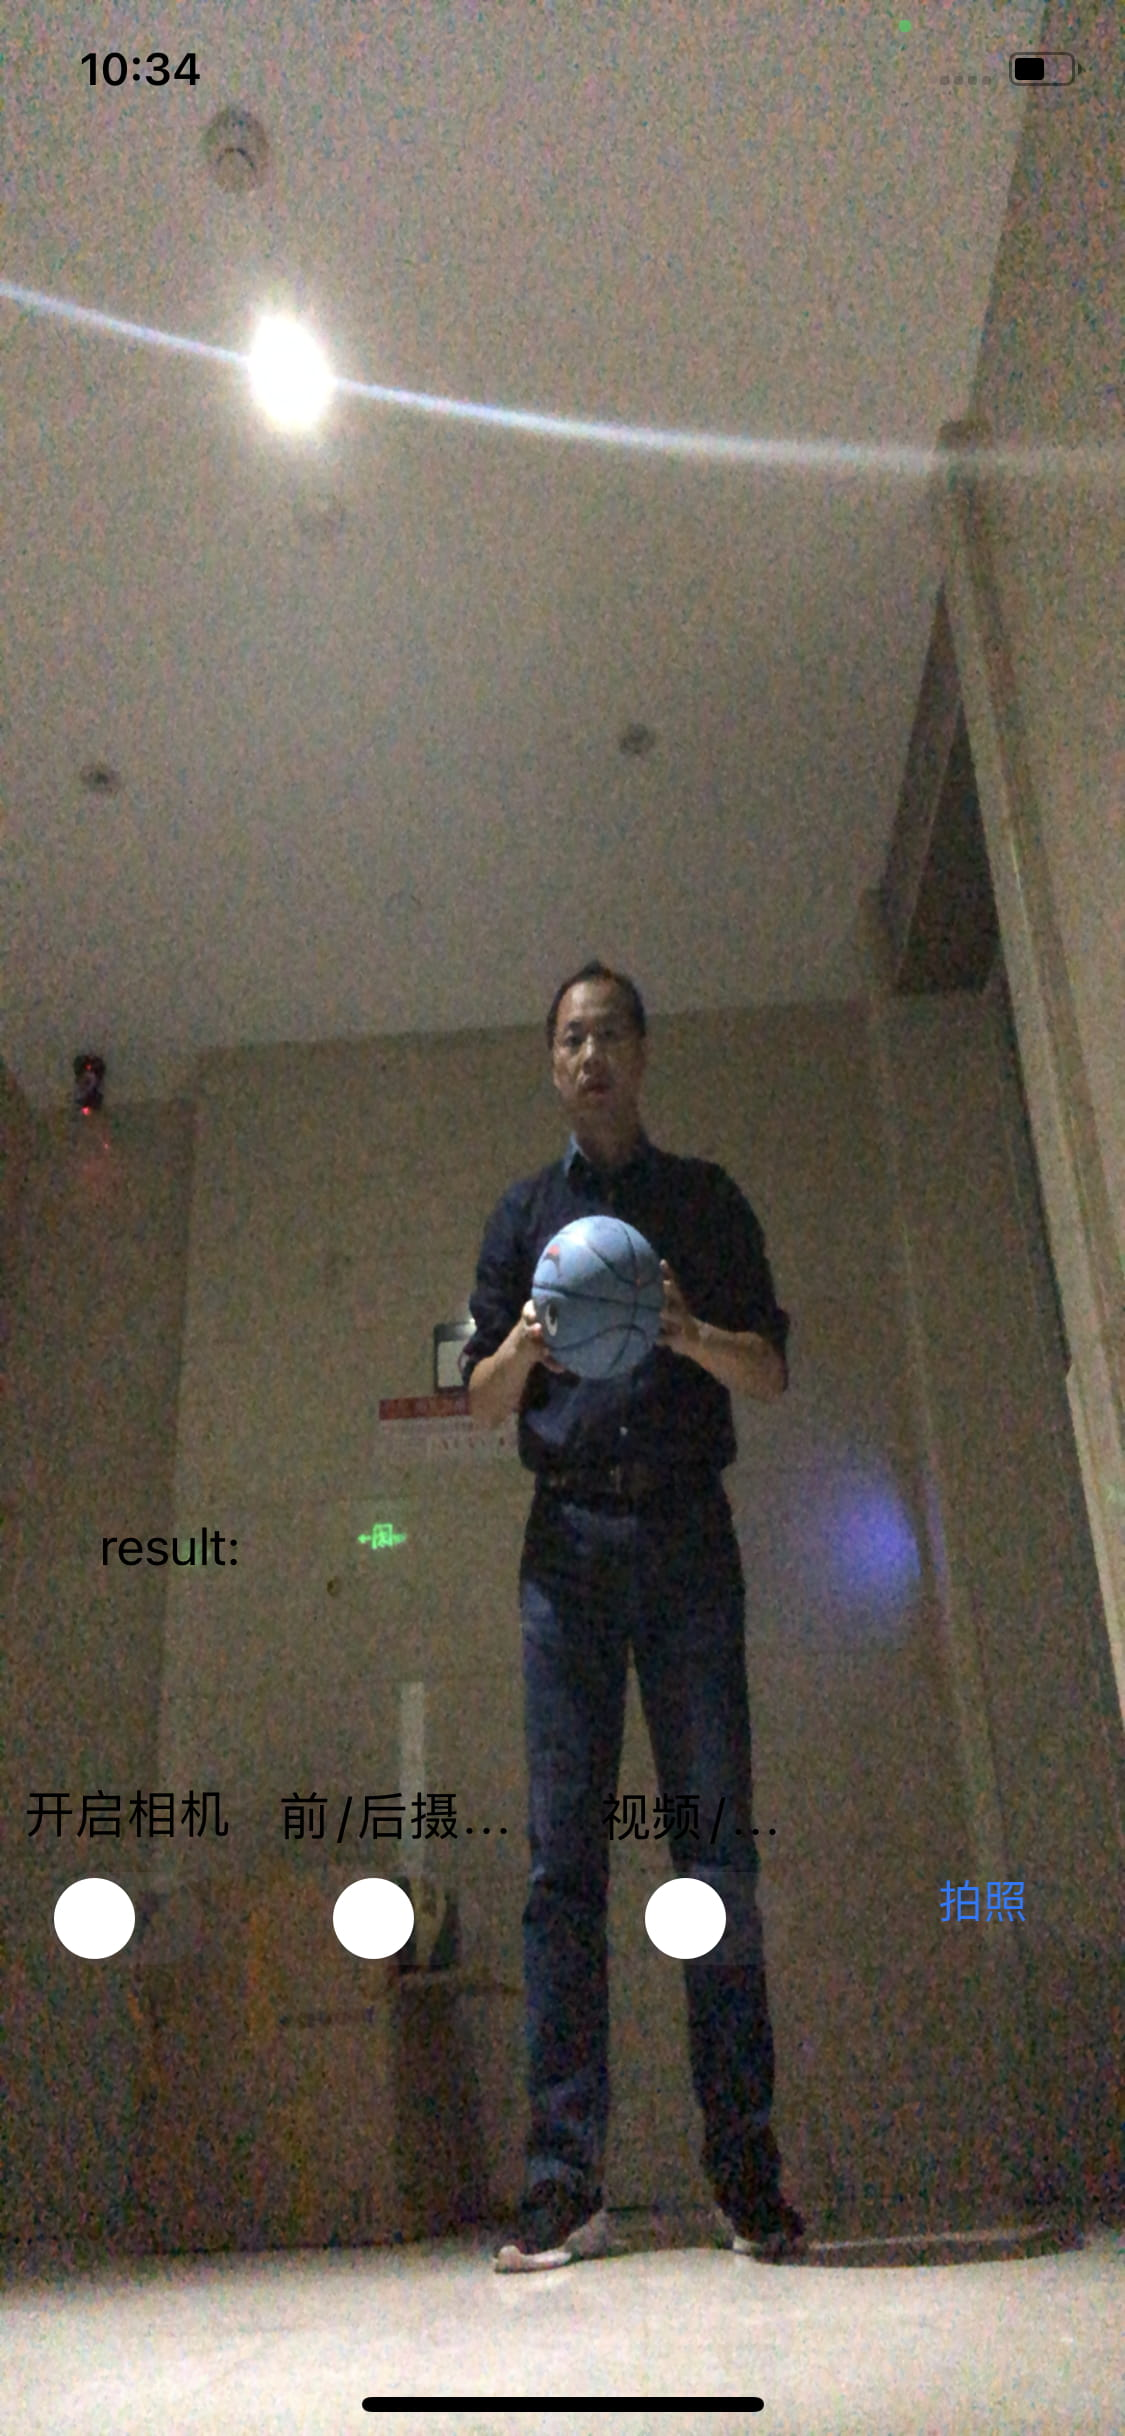ball: (527, 1212, 671, 1381)
